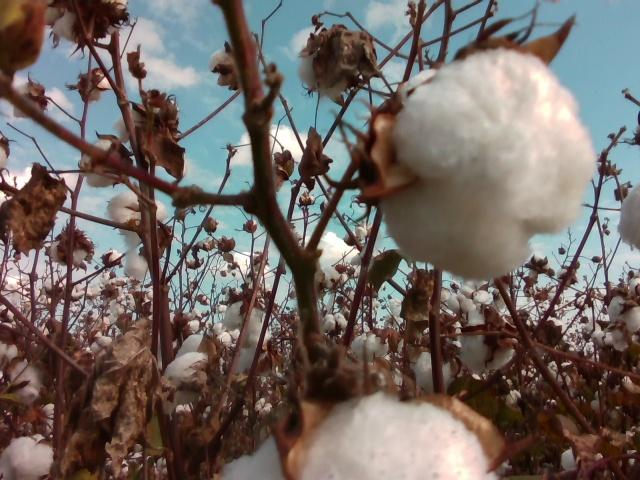cotton_ready: (380, 52, 600, 281), (296, 390, 501, 480), (108, 193, 166, 285), (298, 36, 368, 95), (222, 286, 268, 375), (43, 0, 128, 45), (458, 312, 517, 376), (163, 332, 209, 407), (112, 99, 176, 152), (0, 430, 56, 480), (0, 343, 44, 406), (80, 138, 126, 188), (415, 349, 459, 392), (607, 277, 640, 331), (48, 236, 92, 267), (620, 185, 640, 247), (208, 48, 235, 89)
